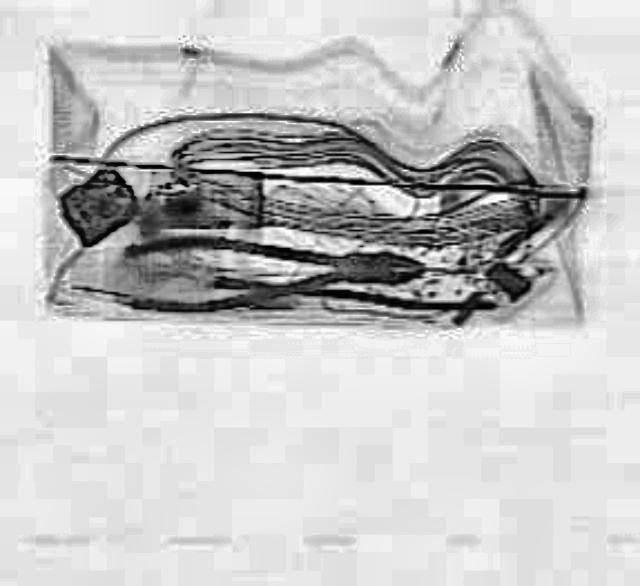Pliers: (116, 228, 422, 310)
